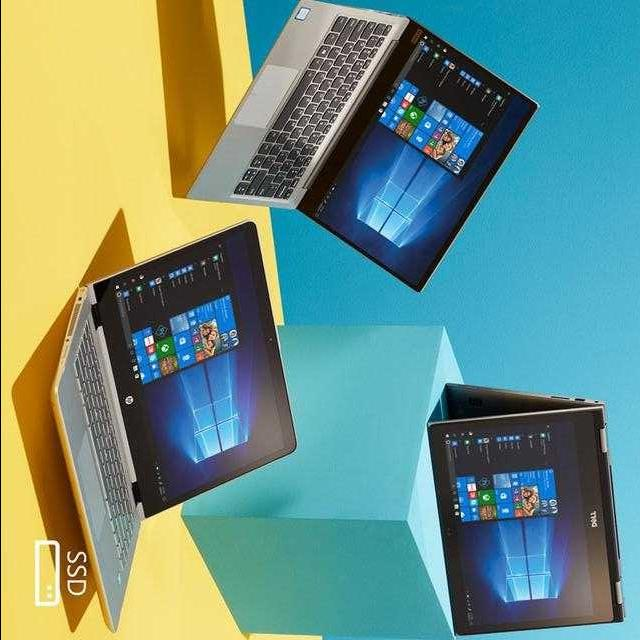laptop: (148, 2, 552, 295), (37, 222, 298, 640), (396, 374, 636, 640)
